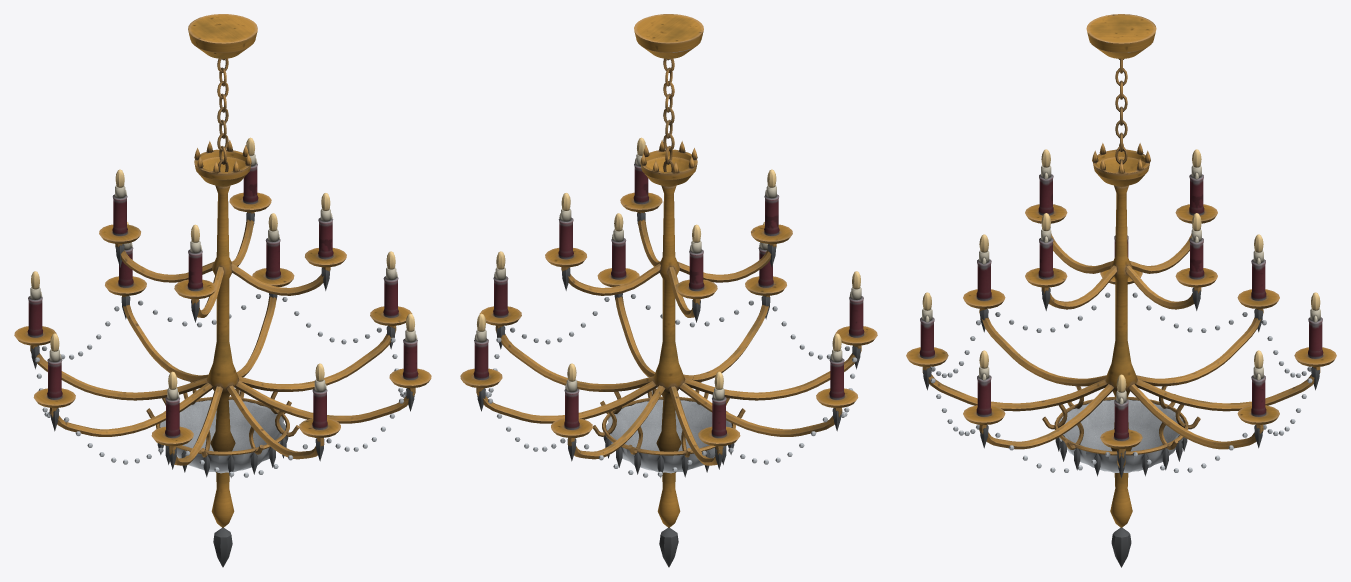
File: ChandelierCrystal.fbx
The picture shows the model from 3 angles, left to right: view 1: azimuth 30°, elevation 25°; view 2: azimuth 150°, elevation 25°; view 3: azimuth 270°, elevation 25°; orthographic projection.
Parts seen in each view (by area): view 1: ChandelierCrystal_Main, ChandelierCrystal_Glass, ChandelierCrystal_Glow; view 2: ChandelierCrystal_Main, ChandelierCrystal_Glass, ChandelierCrystal_Glow; view 3: ChandelierCrystal_Main, ChandelierCrystal_Glass, ChandelierCrystal_Glow.
Boxes of the visible parts, left/top/right/bottom form: ChandelierCrystal_Main: left=14, top=14, right=431, bottom=527; ChandelierCrystal_Glass: left=31, top=212, right=414, bottom=567; ChandelierCrystal_Glow: left=31, top=137, right=414, bottom=389; ChandelierCrystal_Main: left=460, top=14, right=877, bottom=527; ChandelierCrystal_Glass: left=477, top=212, right=860, bottom=567; ChandelierCrystal_Glow: left=477, top=137, right=860, bottom=389; ChandelierCrystal_Main: left=906, top=14, right=1336, bottom=527; ChandelierCrystal_Glass: left=923, top=227, right=1319, bottom=567; ChandelierCrystal_Glow: left=922, top=149, right=1320, bottom=392.
Size of the model in its own units: 344 by 475 by 344.
